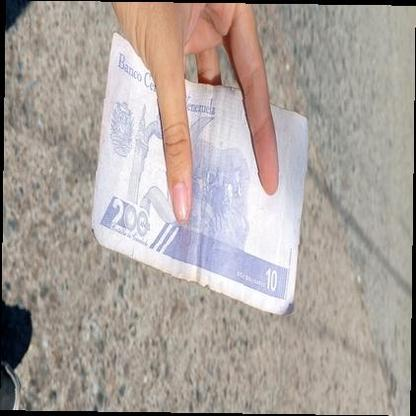ten-back-vef: (90, 32, 307, 316)
